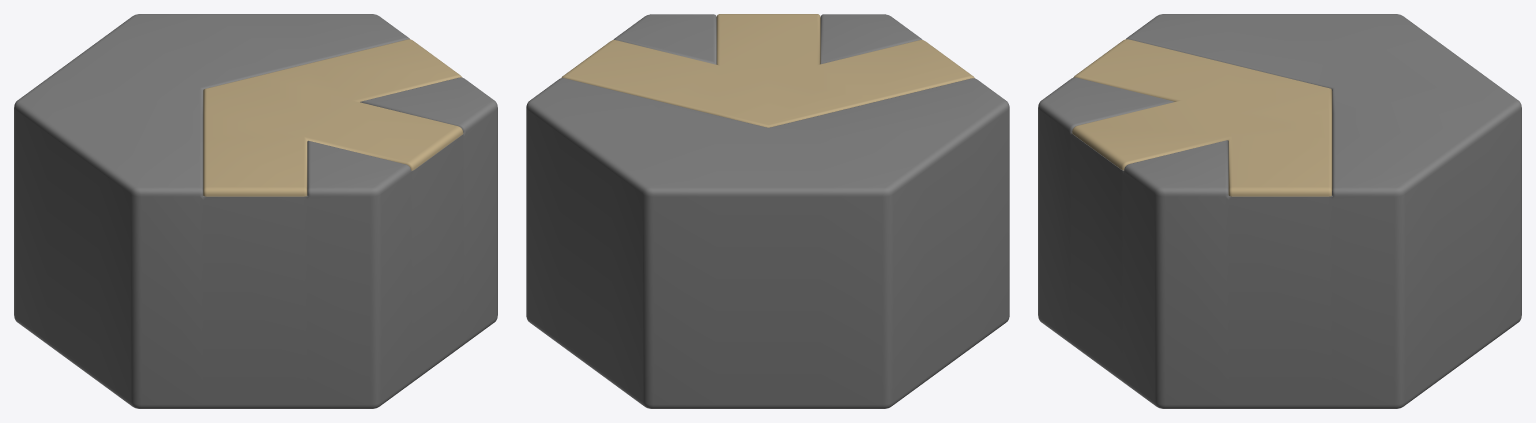
The model's file is Road3.fbx.
3 renders of one model, left to right at view 1: azimuth 30°, elevation 25°; view 2: azimuth 150°, elevation 25°; view 3: azimuth 270°, elevation 25°, orthographic.
Visible parts, largest first — view 1: Cylinder032; view 2: Cylinder032; view 3: Cylinder032.
Boxes of the visible parts, bbox=[...] form: Cylinder032: bbox=[14, 14, 497, 408]; Cylinder032: bbox=[526, 14, 1009, 408]; Cylinder032: bbox=[1038, 14, 1521, 408].
Bounding box in the file's own units: 173 × 100 × 199.
